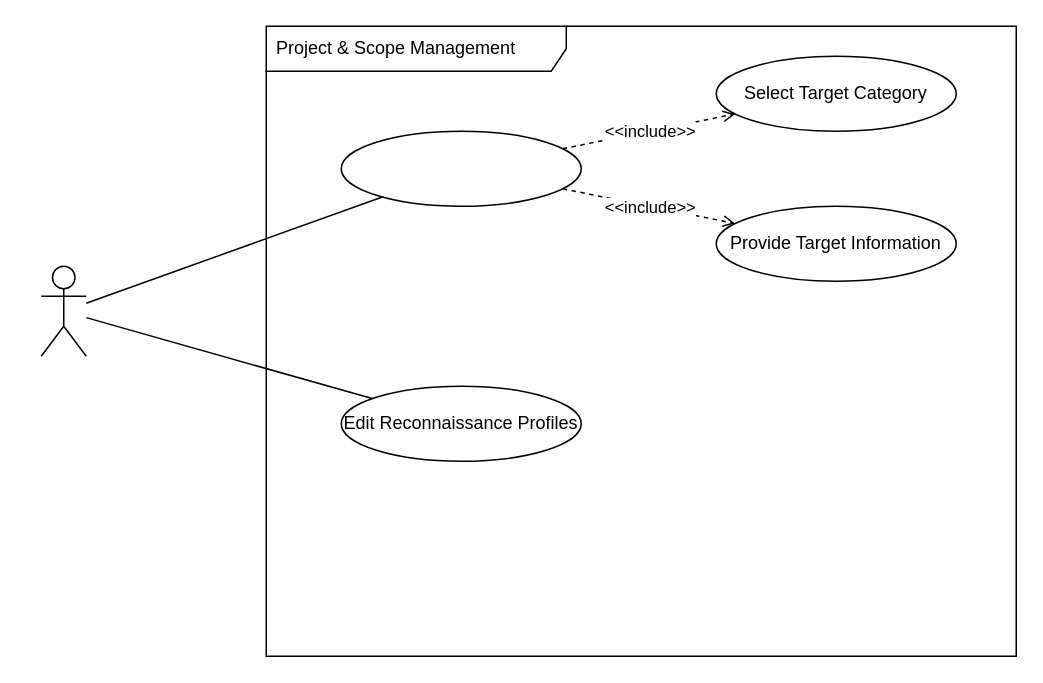
Some shapes in this 1043 by 683 pixel diagram are drawn without their labels. The shapes that lost their labels are listed below. From the top down, each one's centre as x and y in pixels, then its label:
[460,168]: Create Project
[63,310]: Pentester
